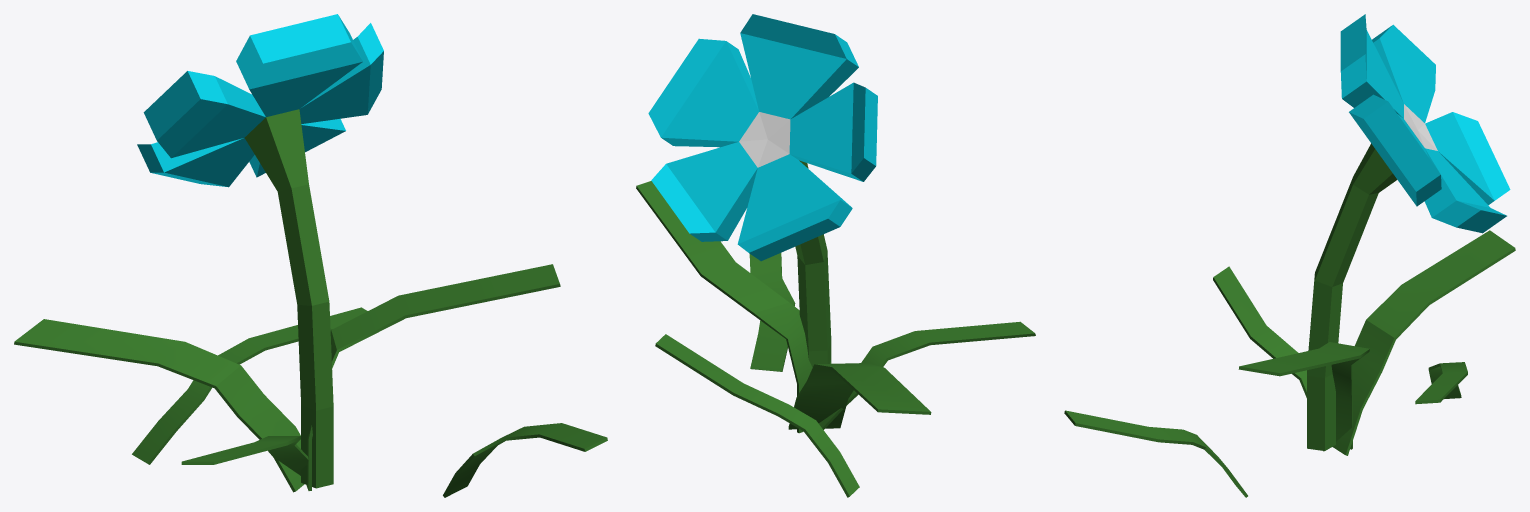
Rendered from Grass4.fbx.
The picture shows the model from 3 angles, left to right: view 1: azimuth 30°, elevation 25°; view 2: azimuth 150°, elevation 25°; view 3: azimuth 270°, elevation 25°; orthographic projection. The views are drawn at different scales.
Parts seen in each view (by area): view 1: Cylinder.001, Plane.002; view 2: Cylinder.001, Plane.002; view 3: Cylinder.001, Plane.002.
Boxes of the visible parts, bbox=[...] form: Cylinder.001: bbox=[137, 14, 383, 488]; Plane.002: bbox=[14, 264, 607, 497]; Cylinder.001: bbox=[648, 14, 877, 367]; Plane.002: bbox=[636, 181, 1035, 497]; Cylinder.001: bbox=[1307, 14, 1510, 450]; Plane.002: bbox=[1064, 230, 1515, 497].
Size of the model in its own units: 86.17 by 85.45 by 84.18.
